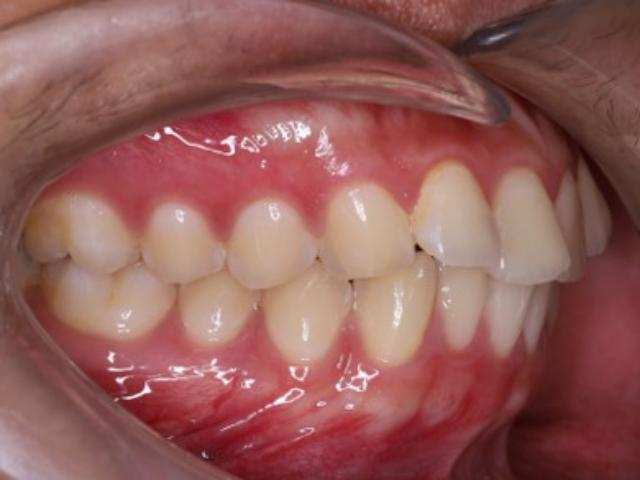canine class II 1/4: (271, 169, 435, 395)
molar class III 1/2: (17, 192, 179, 360)
